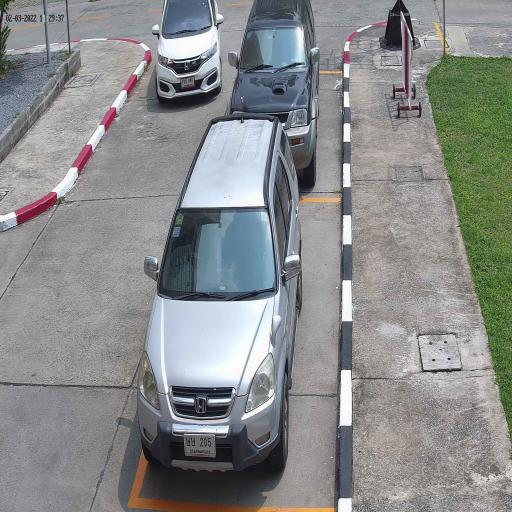car: (136, 112, 302, 475), (229, 0, 319, 189), (156, 0, 222, 103)
